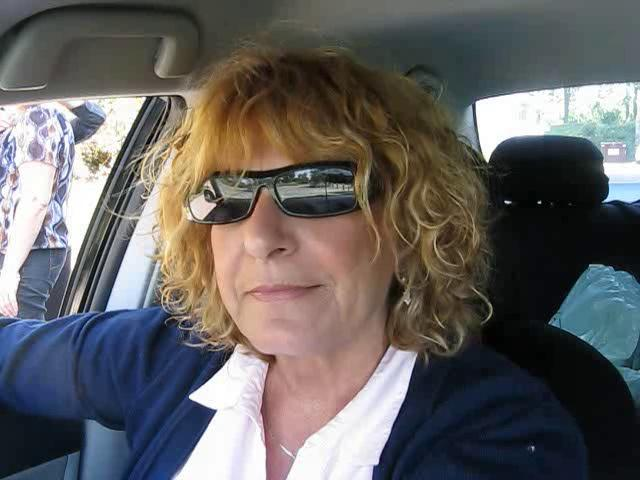no_yawn: (226, 263, 337, 319)
